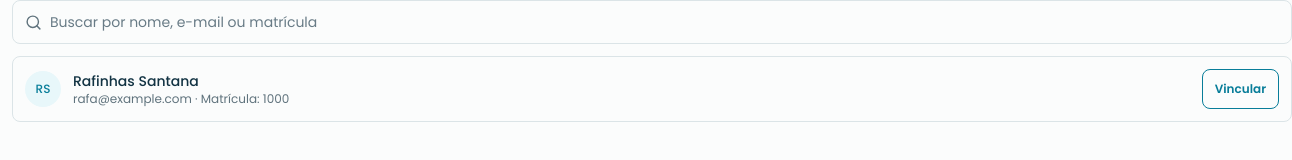
Test case: busca sem resultado informa o motivo e impede vínculo
Expected: the text "Rafinhas Santana" is shown, [73, 71, 199, 91]
Type "Ausente" into the search field named "Buscar professor da escola" at (664, 22), box [50, 12, 1279, 32]
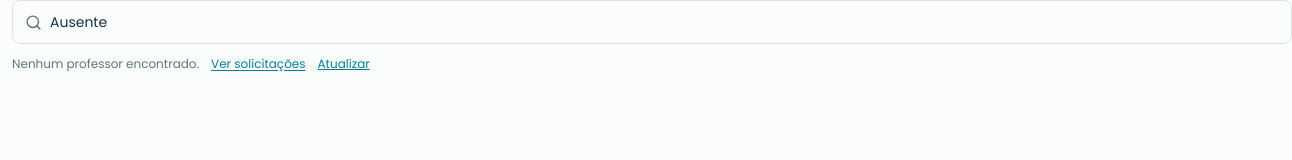
Expected: the message shows "Nenhum professor encontrado.", [12, 55, 199, 72]
Expected: the button "Vincular " is gone
